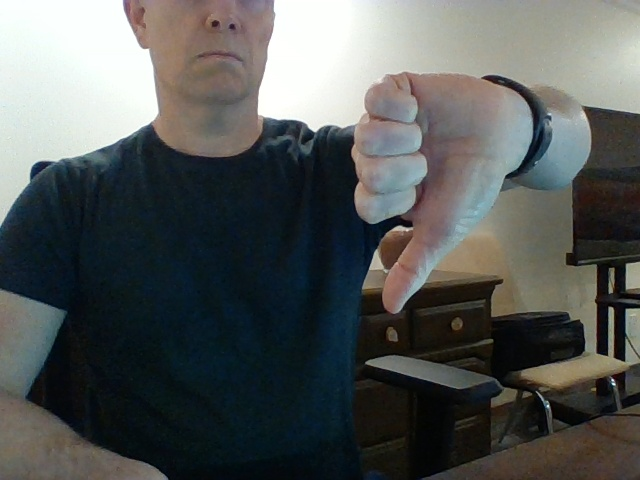ThumbsDown: (352, 71, 504, 314)
